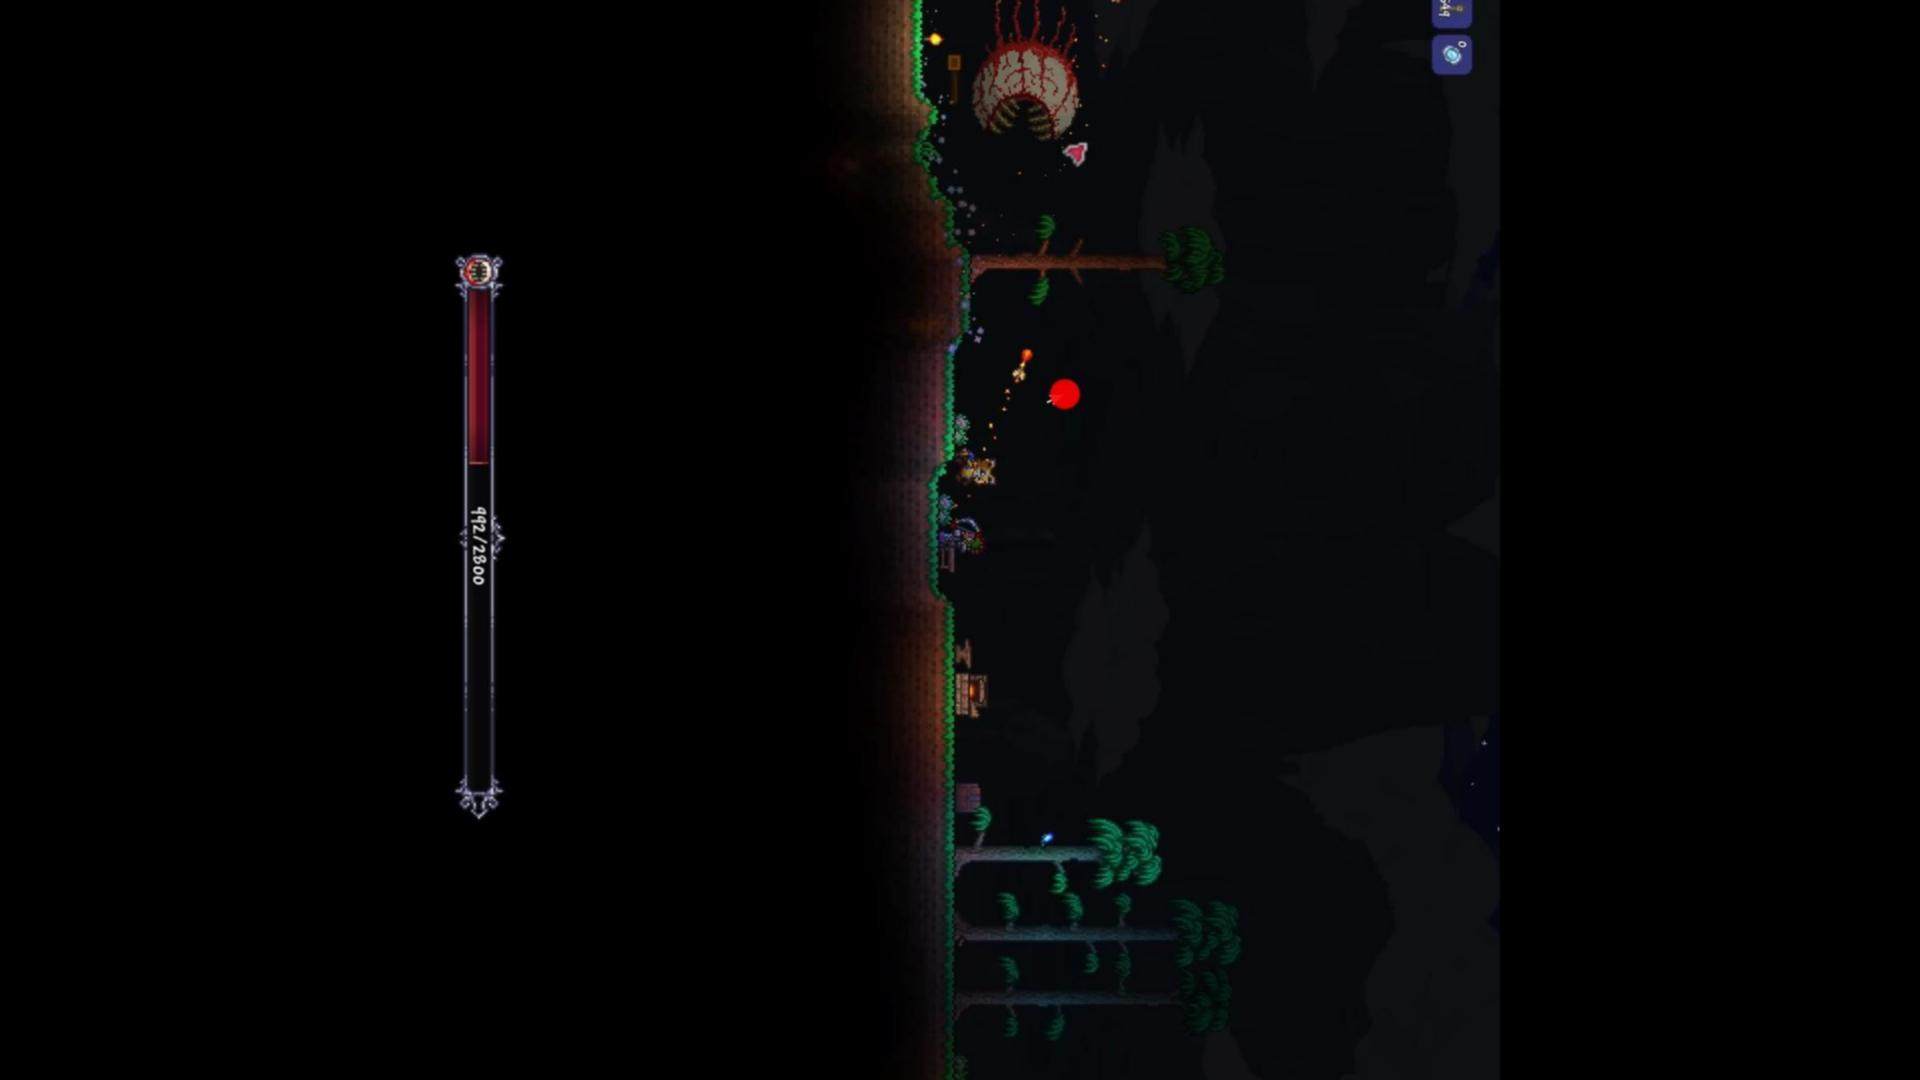dirt: (909, 605, 961, 800), (923, 318, 959, 469), (909, 47, 940, 156)
